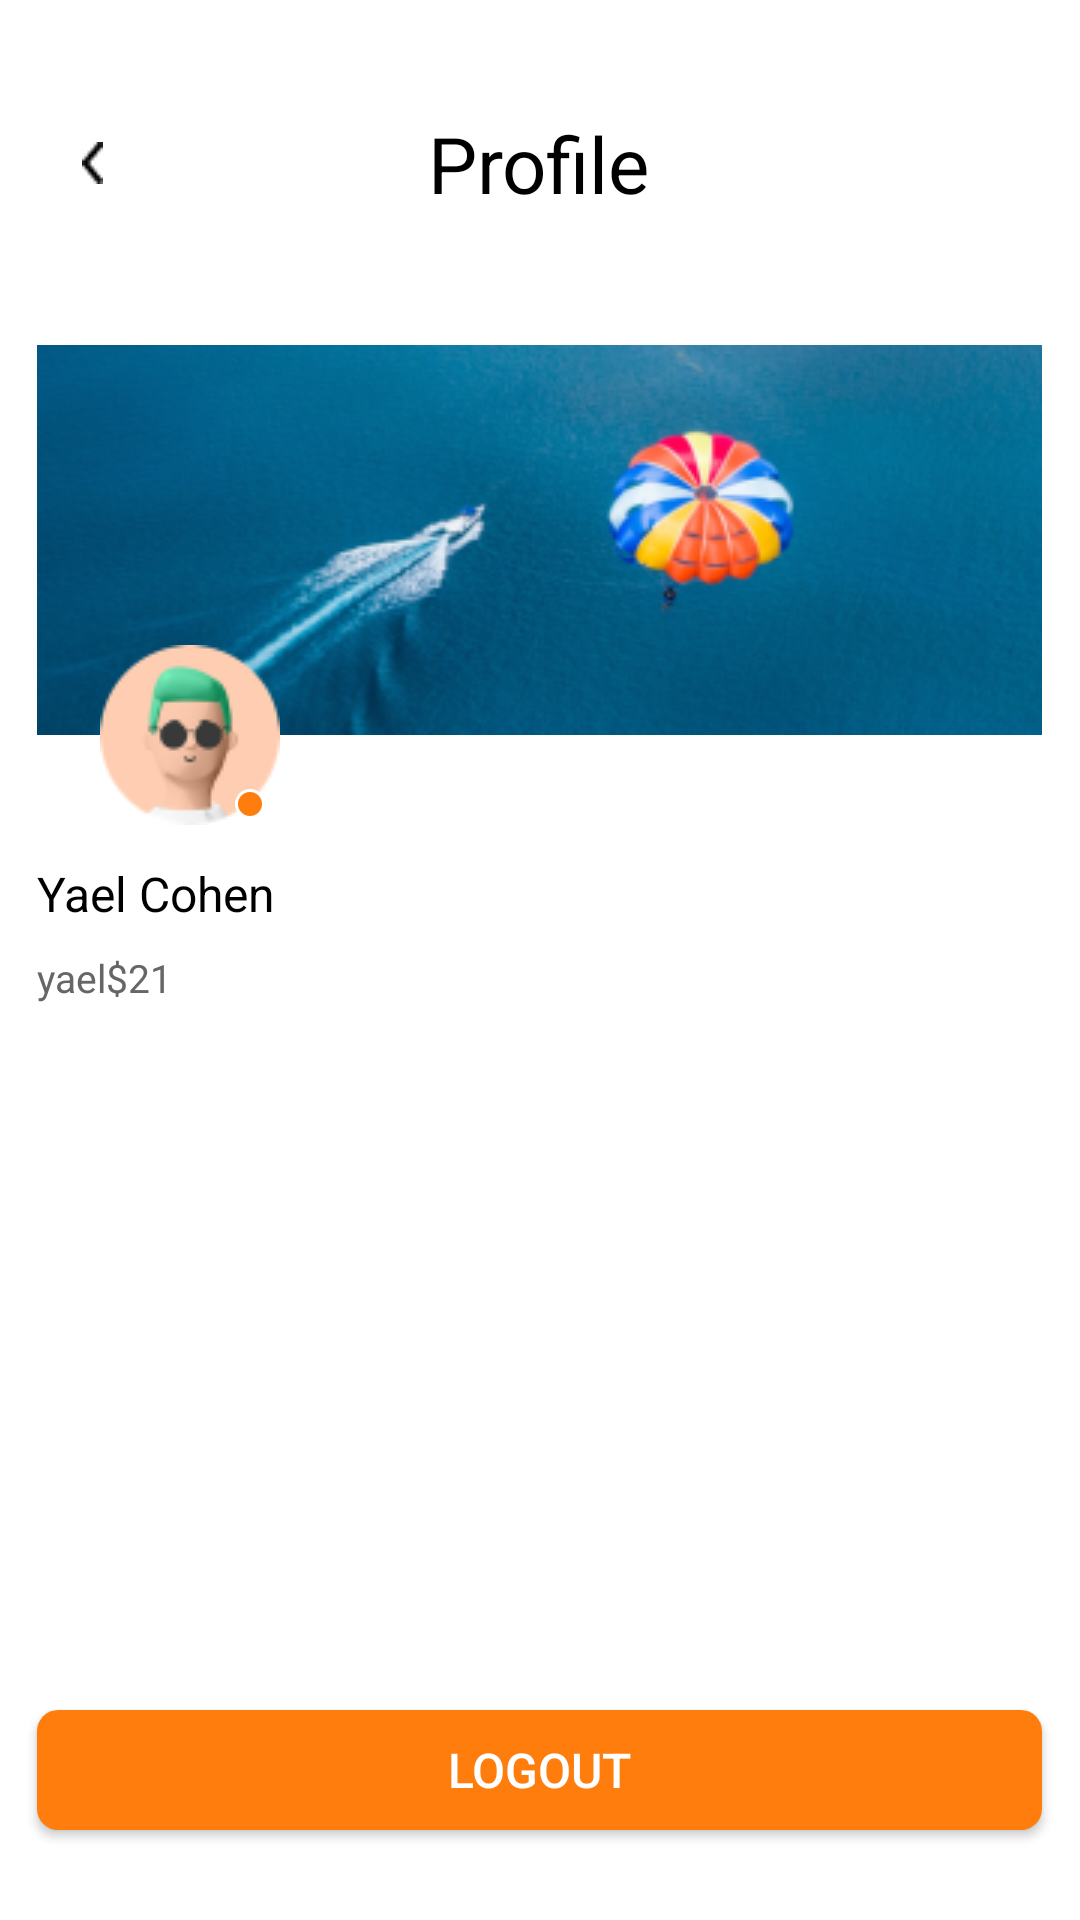

Named icons in this screenshot (1080×1920) and their centers, (x=x, y=y):
ava: (x=190, y=735)
